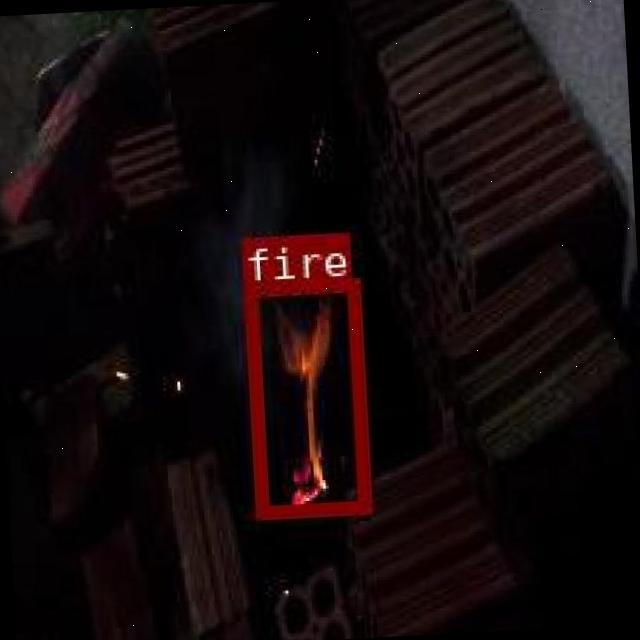fire: (242, 278, 370, 517)
